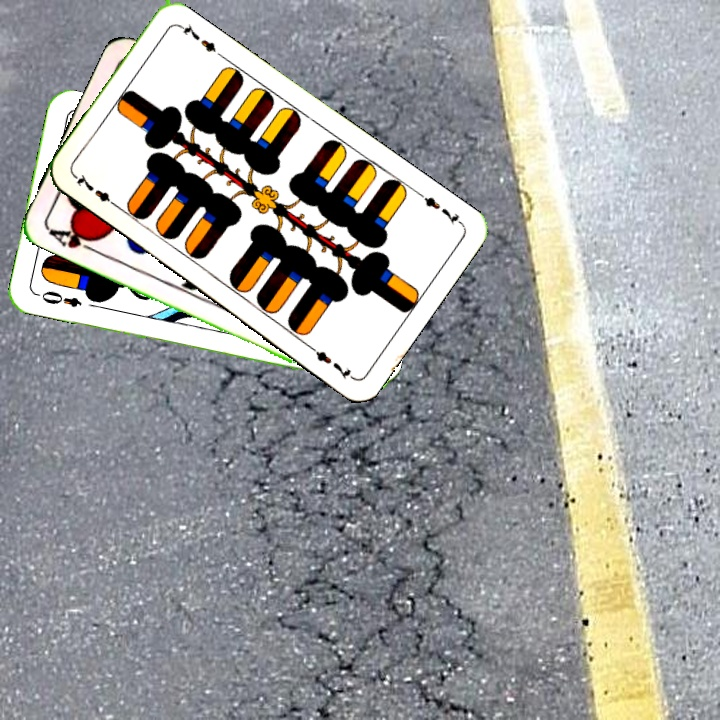E7: (70, 170, 122, 211), (413, 188, 465, 227)
EO: (32, 286, 85, 310)
HA: (44, 222, 103, 257)
